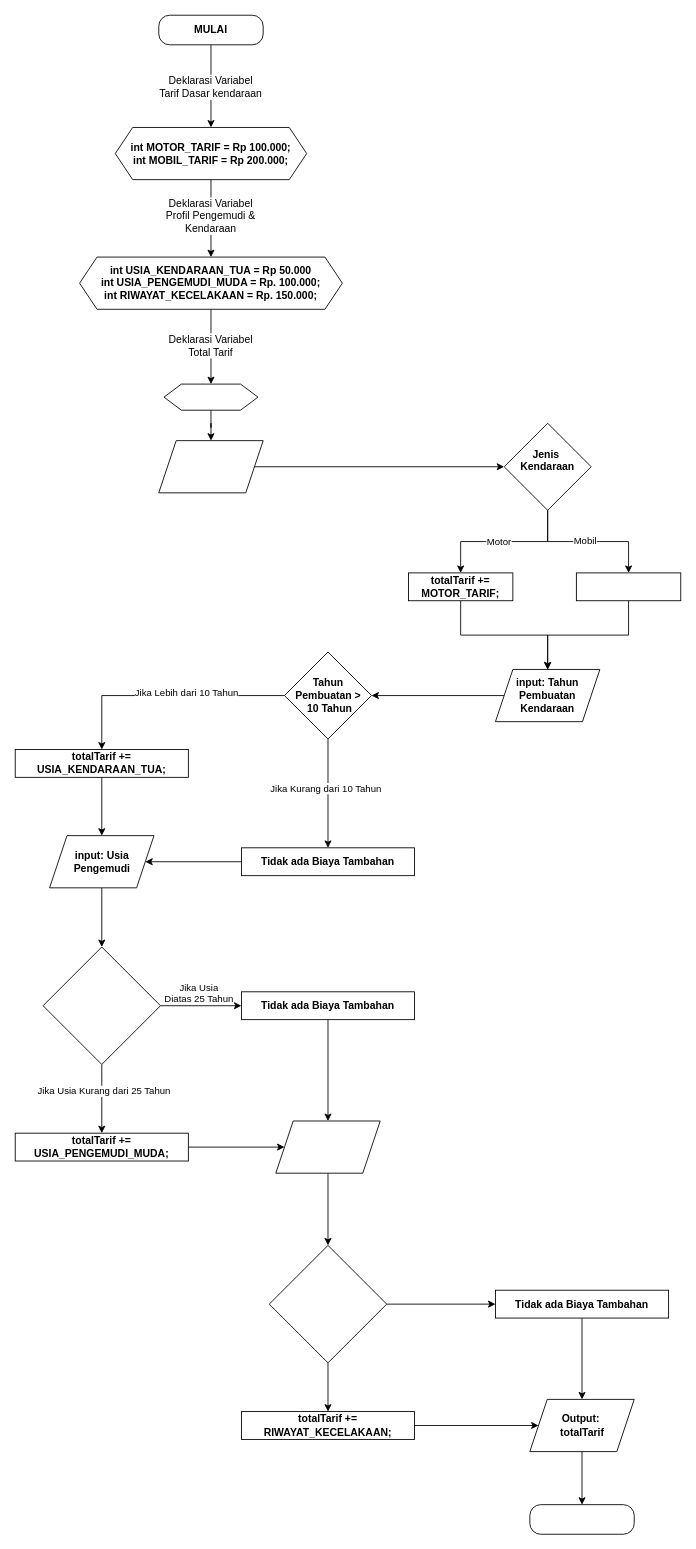
Image size: 696x1549. Some labels were removed from this diagram. Here are the shapes that lost their labels. From the top down, the centre of each, then its label:
At point 210,396: "int totalTarif;".
At point 210,466: "input: Jenis Kendaraan".
At point 628,586: "totalTarif += Mobil;".
At point 101,1005: "Cek Apakah Usia Pengemudi < 25 Tahun".
At point 327,1146: "input: Riwayat Kecelakaan".
At point 327,1304: "Cek Riwayat Kecelakaan (ya/tidak)".
At point 581,1519: "SELESAI".
